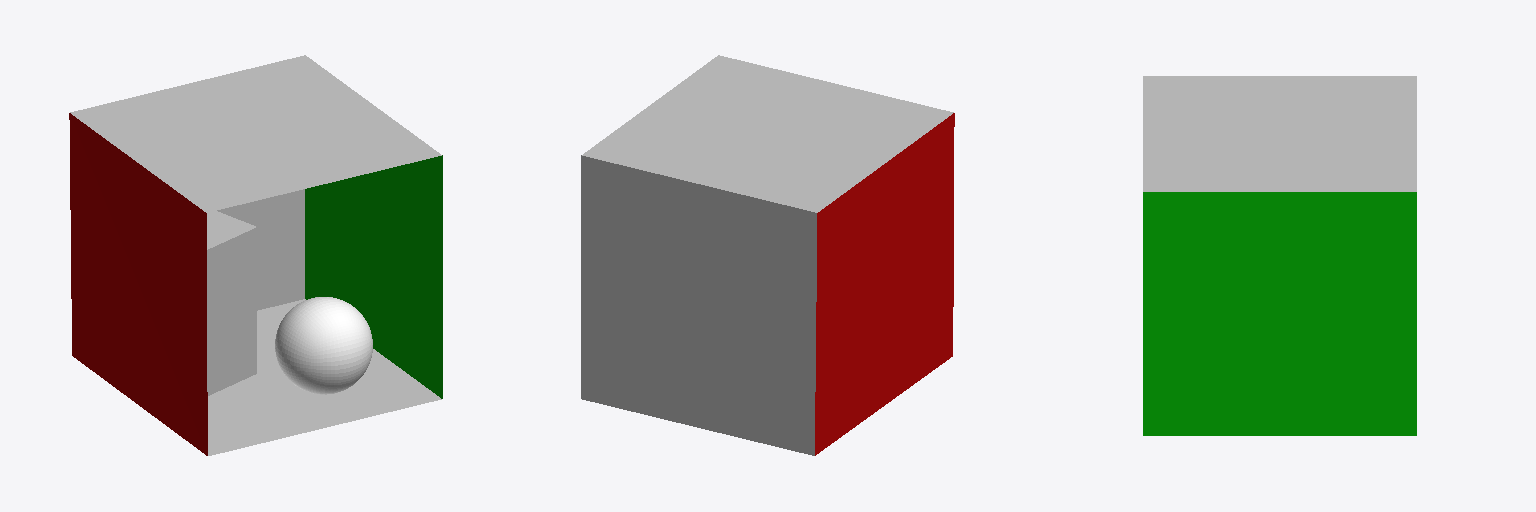
The model's file is cornell.obj.
3 views of the same model, side by side, from view 1: azimuth 30°, elevation 25°; view 2: azimuth 150°, elevation 25°; view 3: azimuth 270°, elevation 25° (orthographic).
Bounding box in the file's own units: 556 × 549 × 559.